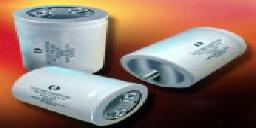Electrolytic-capacitor: (7, 65, 149, 123), (117, 25, 242, 87), (13, 4, 109, 65)
